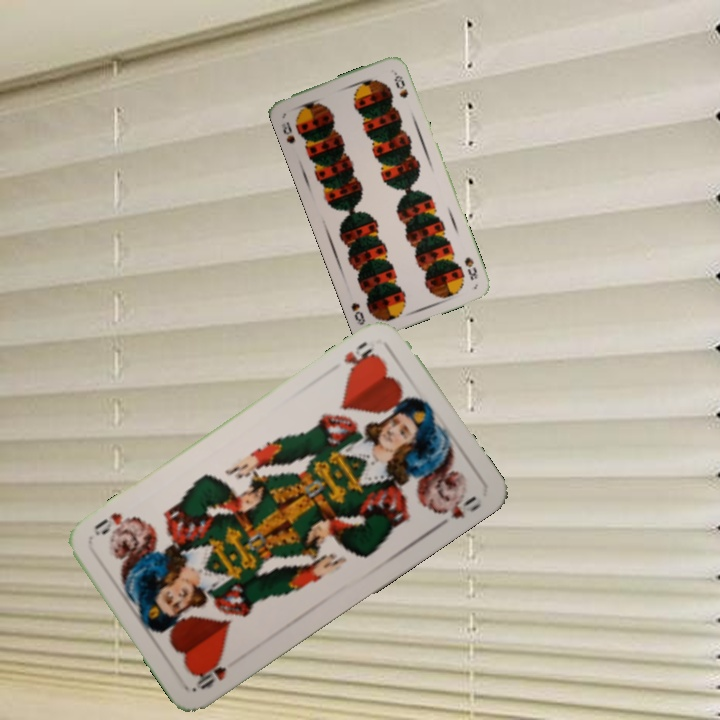HO: (339, 337, 380, 377), (192, 655, 229, 693)
S8: (460, 253, 481, 283), (278, 117, 298, 146)
